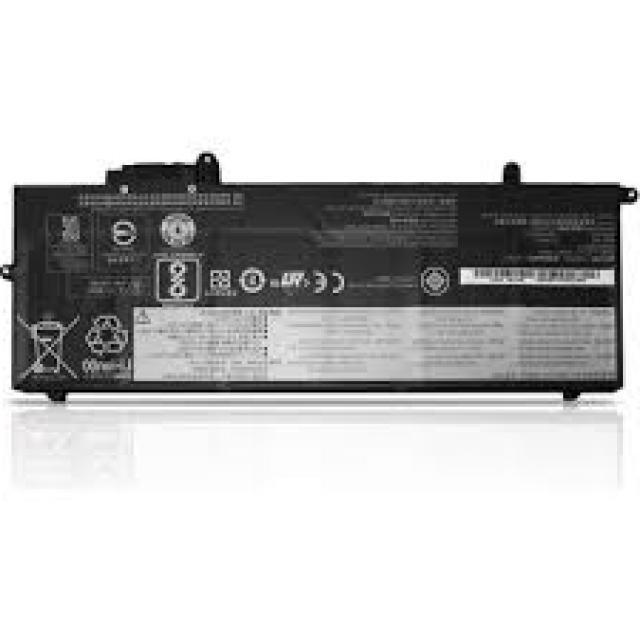battery: (6, 153, 636, 416)
